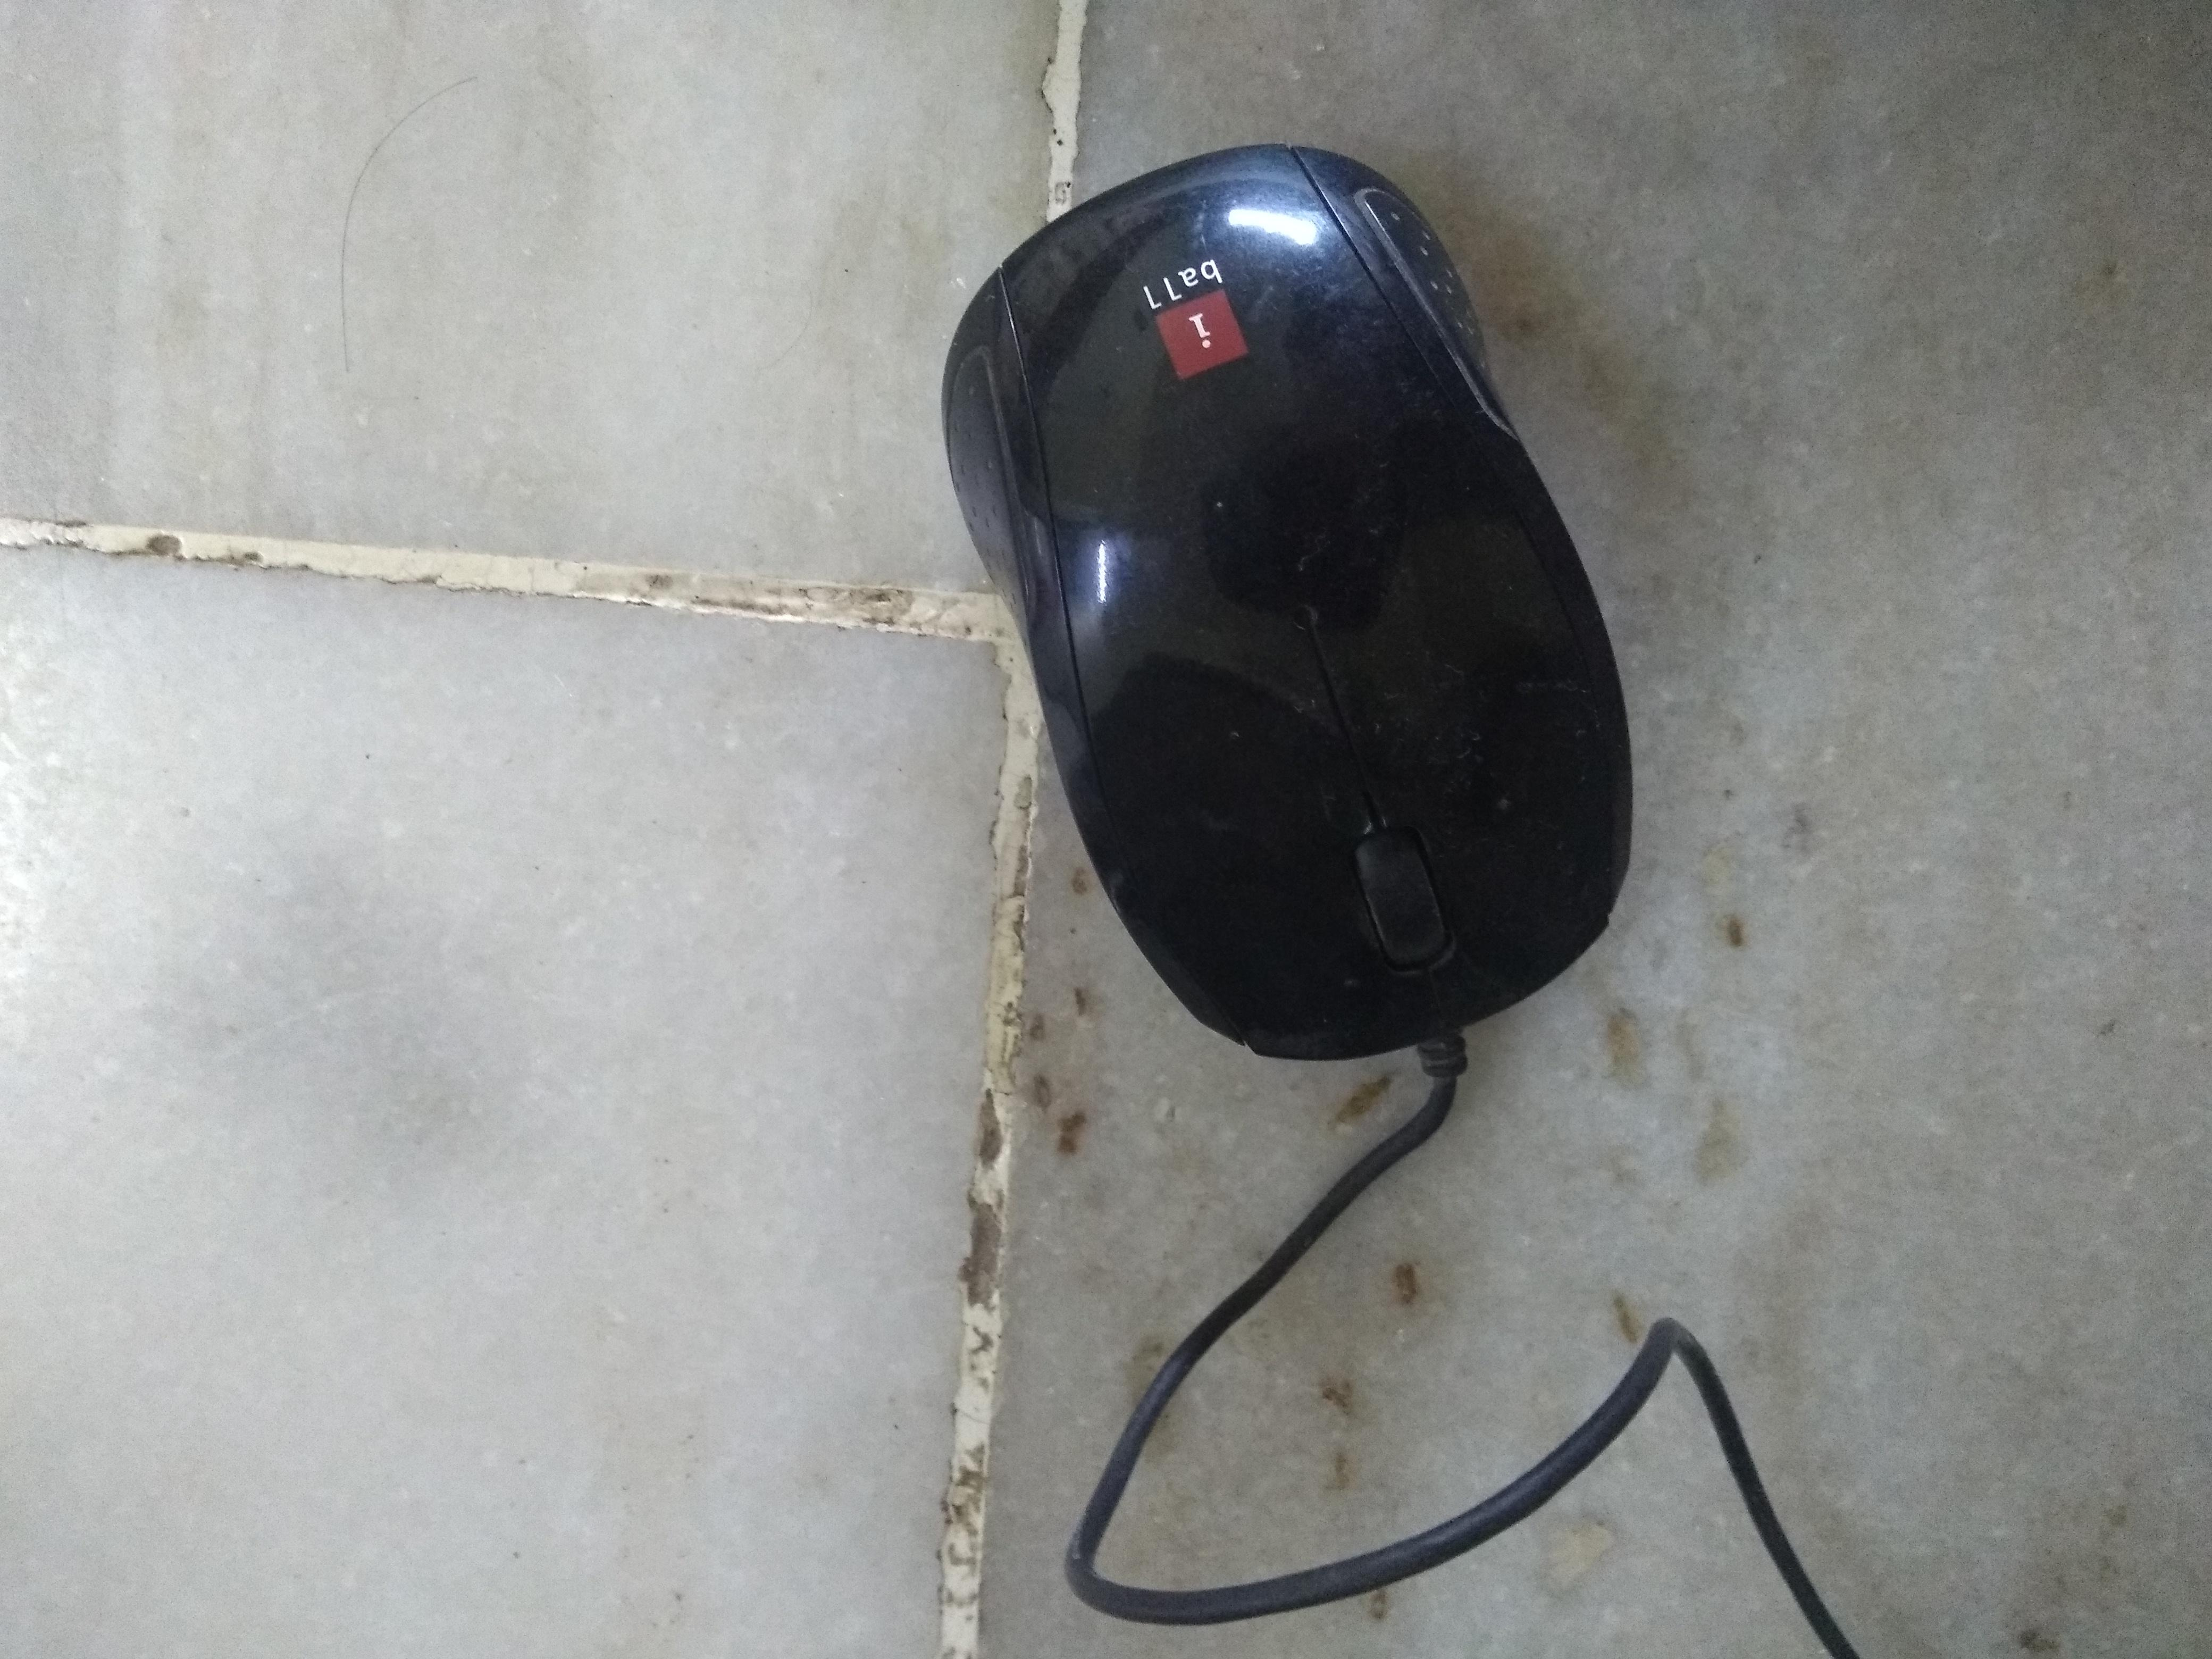mouse: (887, 106, 1667, 1101)
